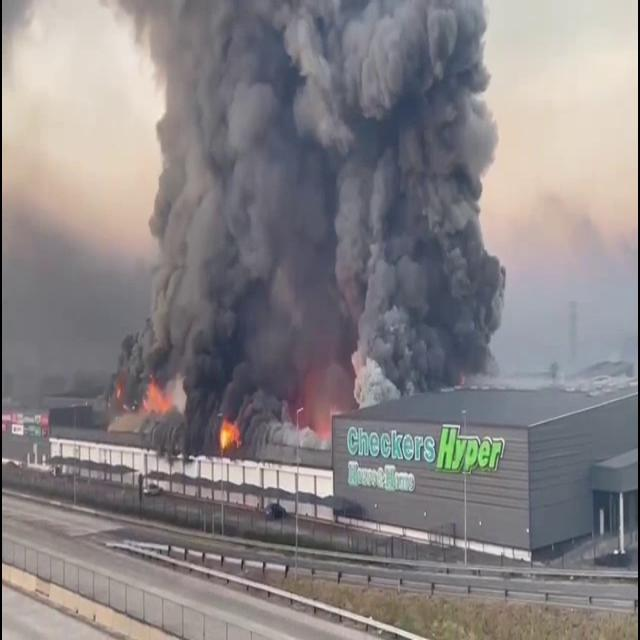Fire: (294, 364, 332, 439), (142, 374, 175, 414), (219, 420, 241, 450), (114, 364, 128, 402)
Smoke: (96, 0, 508, 408), (2, 178, 332, 463), (458, 190, 638, 393), (2, 0, 38, 97)
